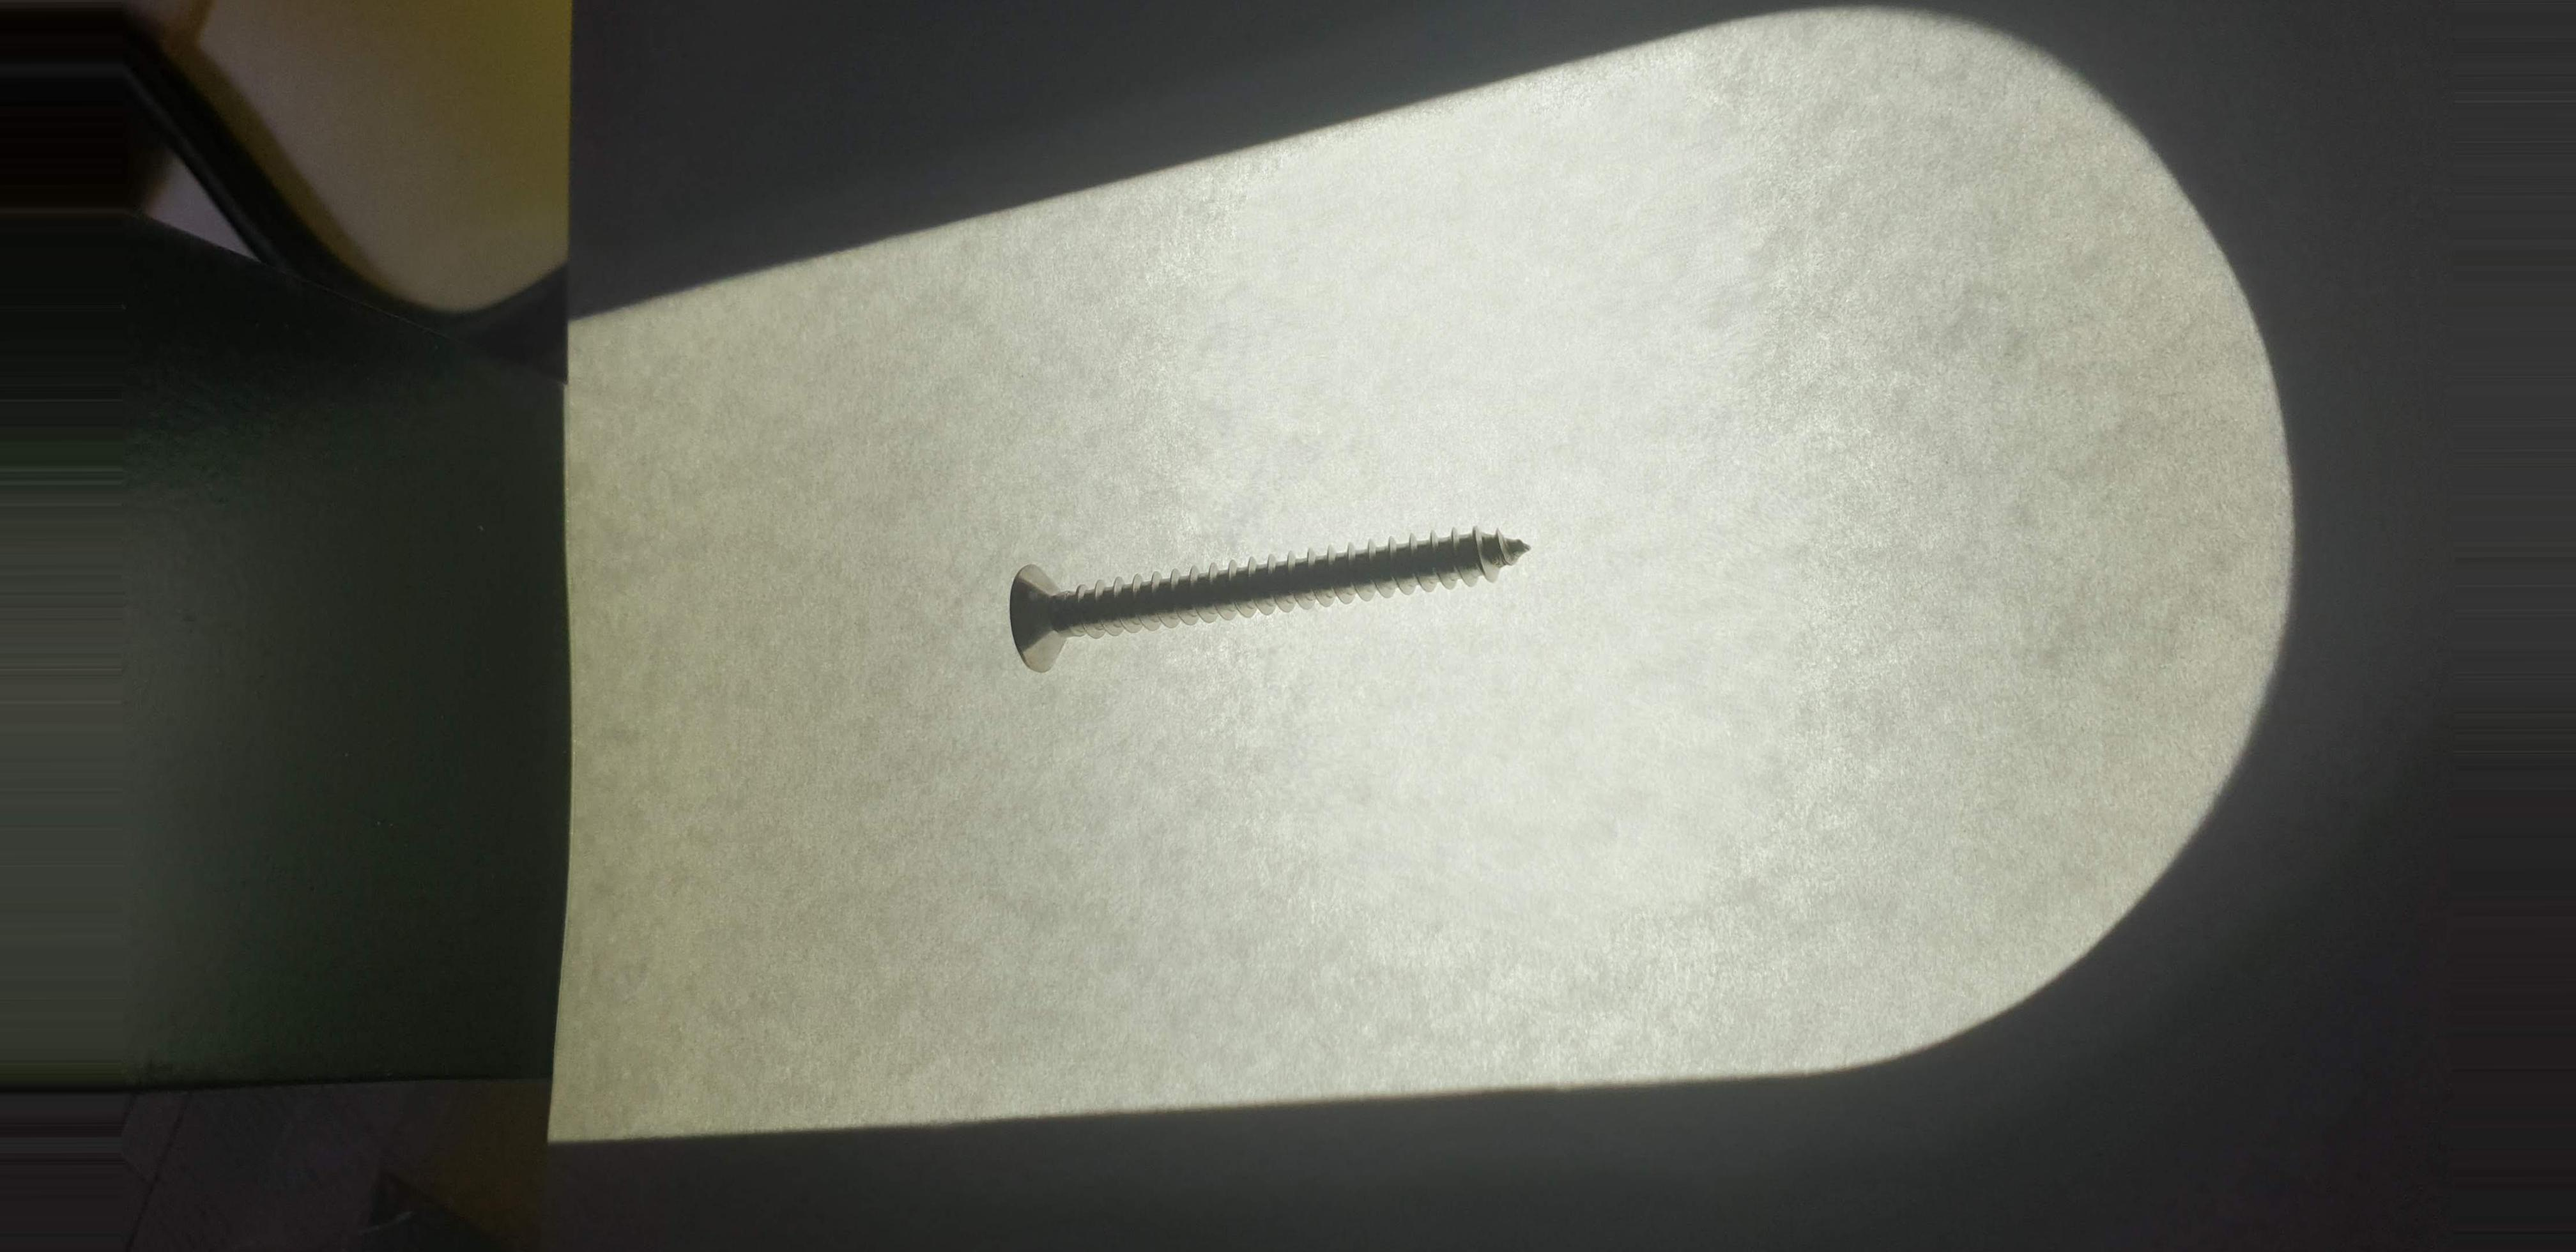S001: (959, 501, 1590, 708)
